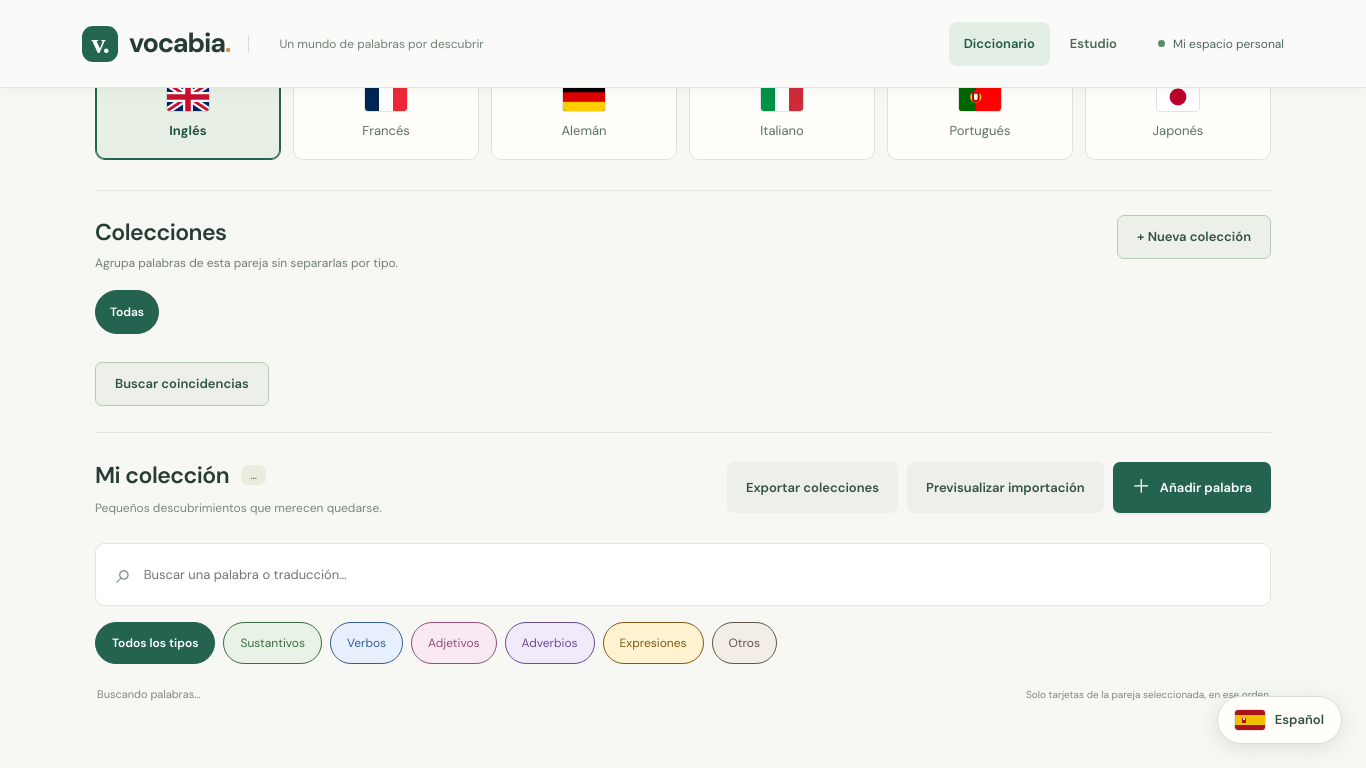
Colección de palabras › permite deshacer la última fusión y recuperar las dos tarjetas
The width and height of the screenshot is (1366, 768).
(page scrolled)
Click the button "Buscar coincidencias" at (182, 384), box [95,362,269,406]
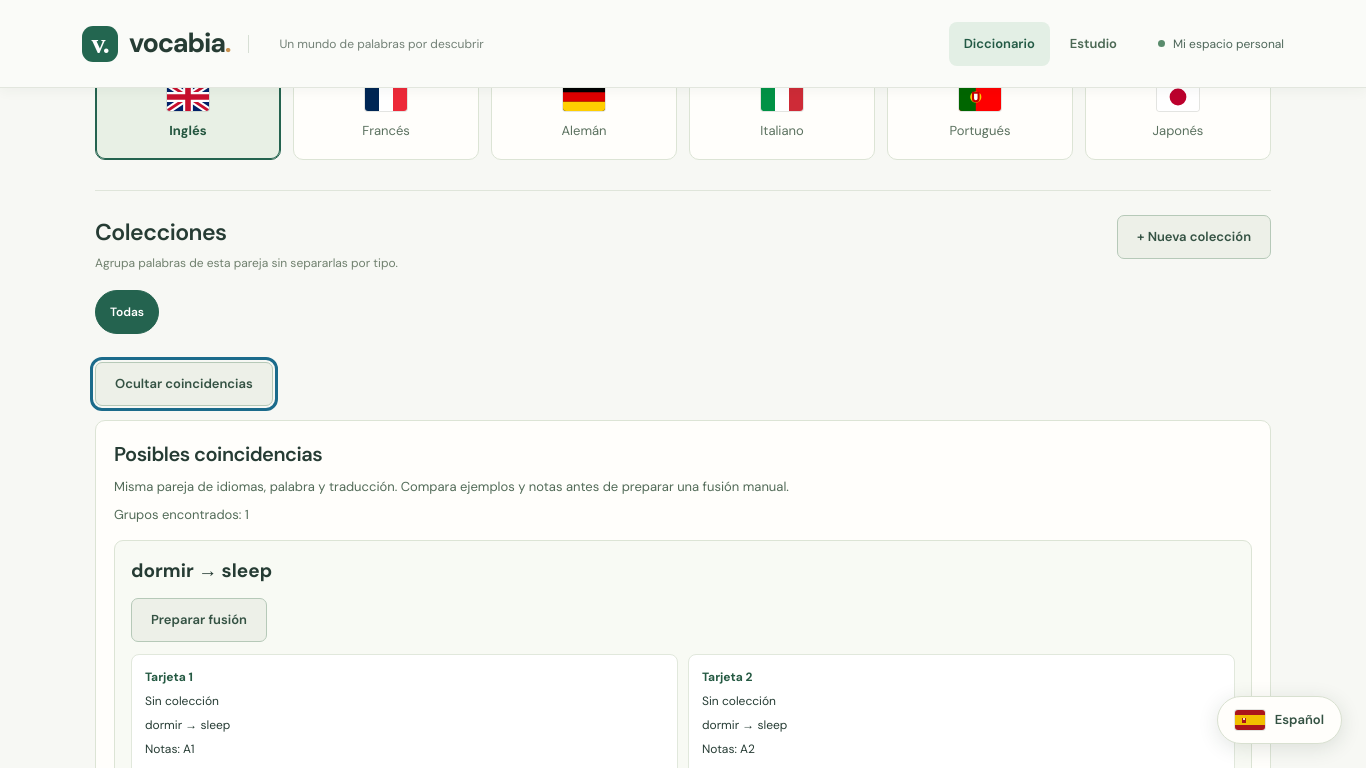
Click the button "Preparar fusión" at (199, 620), box [131,598,267,642]
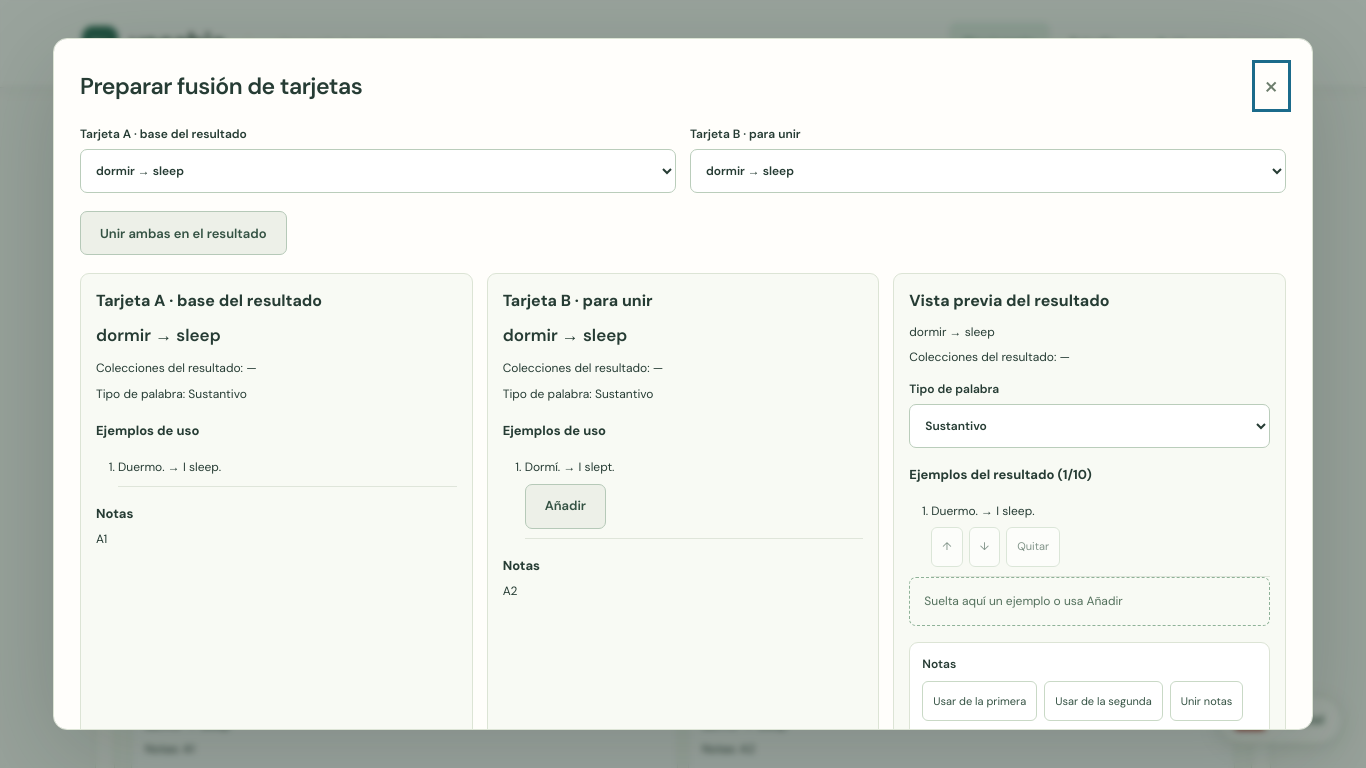
Click the button "Unir ambas en el resultado" at (183, 233), box [80,211,286,255]
(page scrolled)
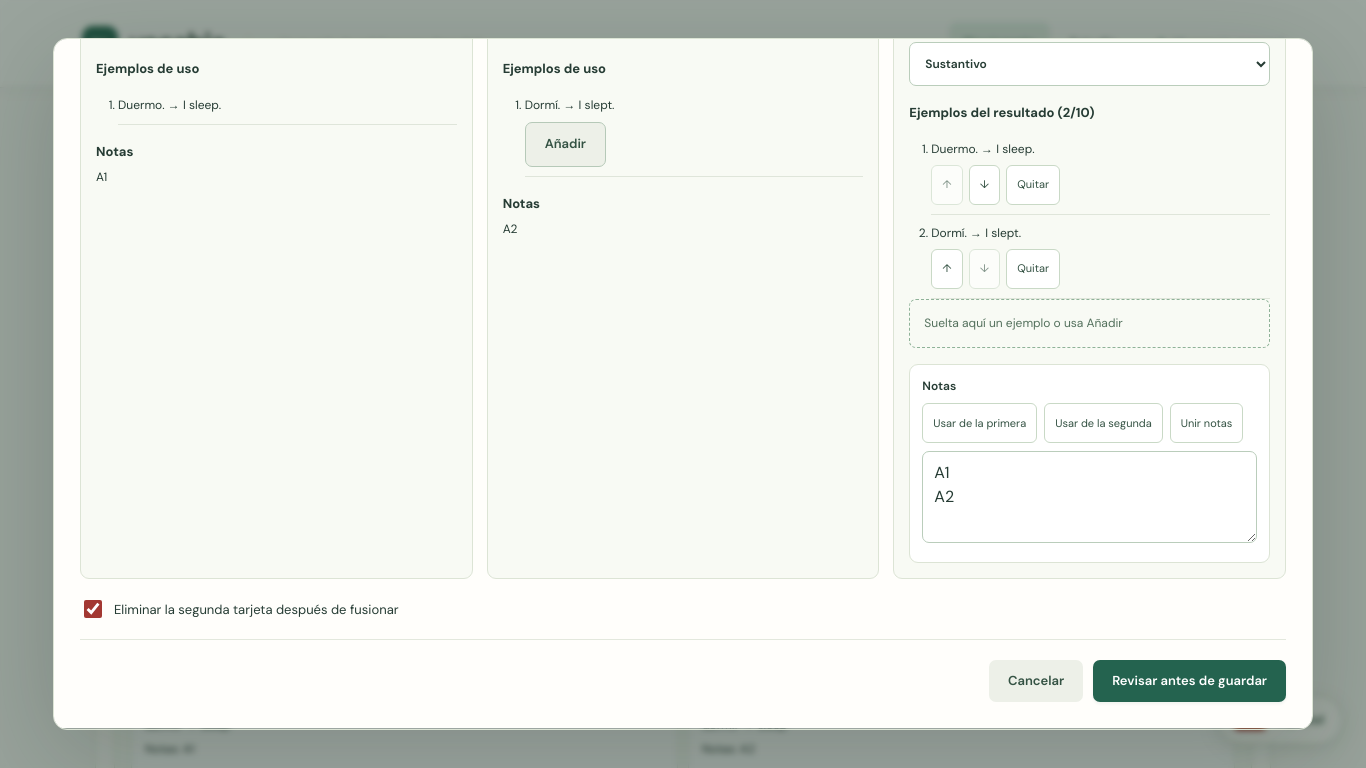
Click the button "Revisar antes de guardar" at (1190, 681), box [1093,660,1286,702]
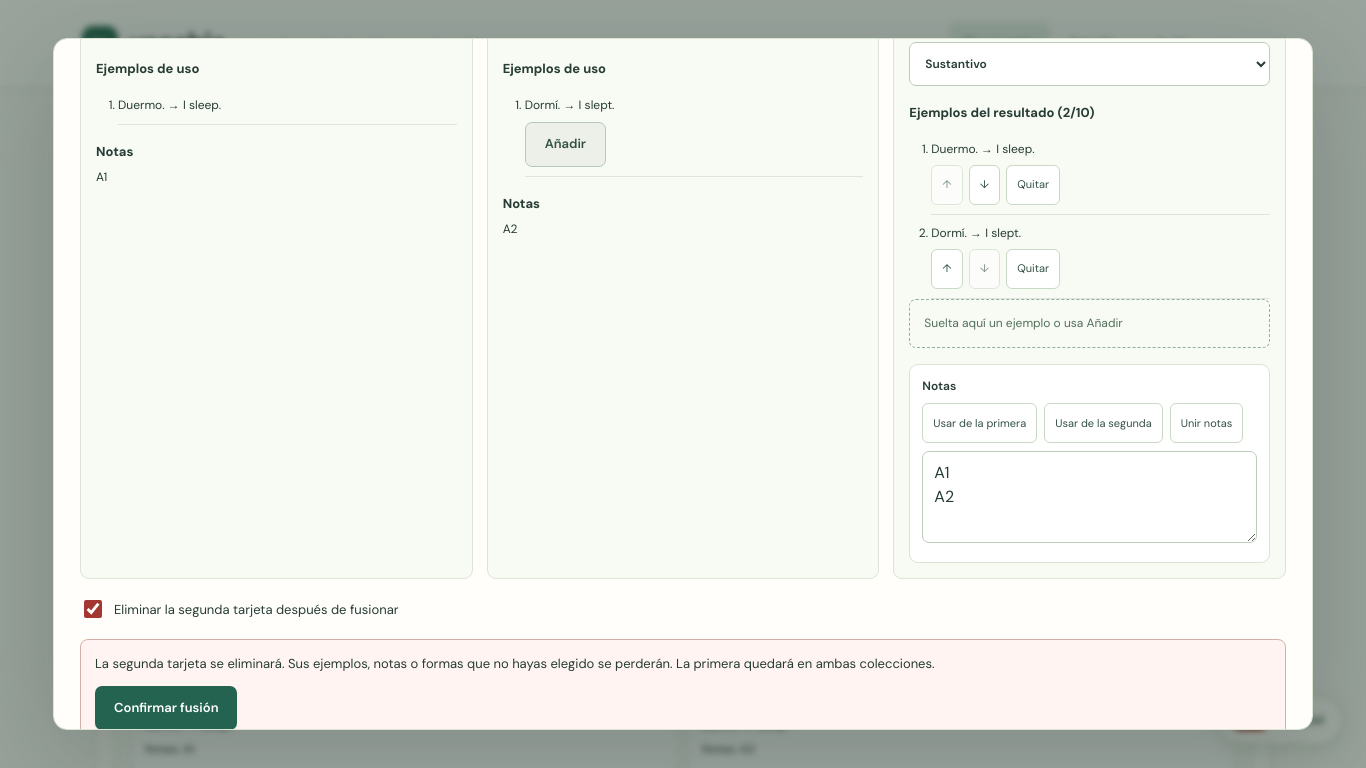
Click the button "Confirmar fusión" at (166, 708), box [95,686,238,730]
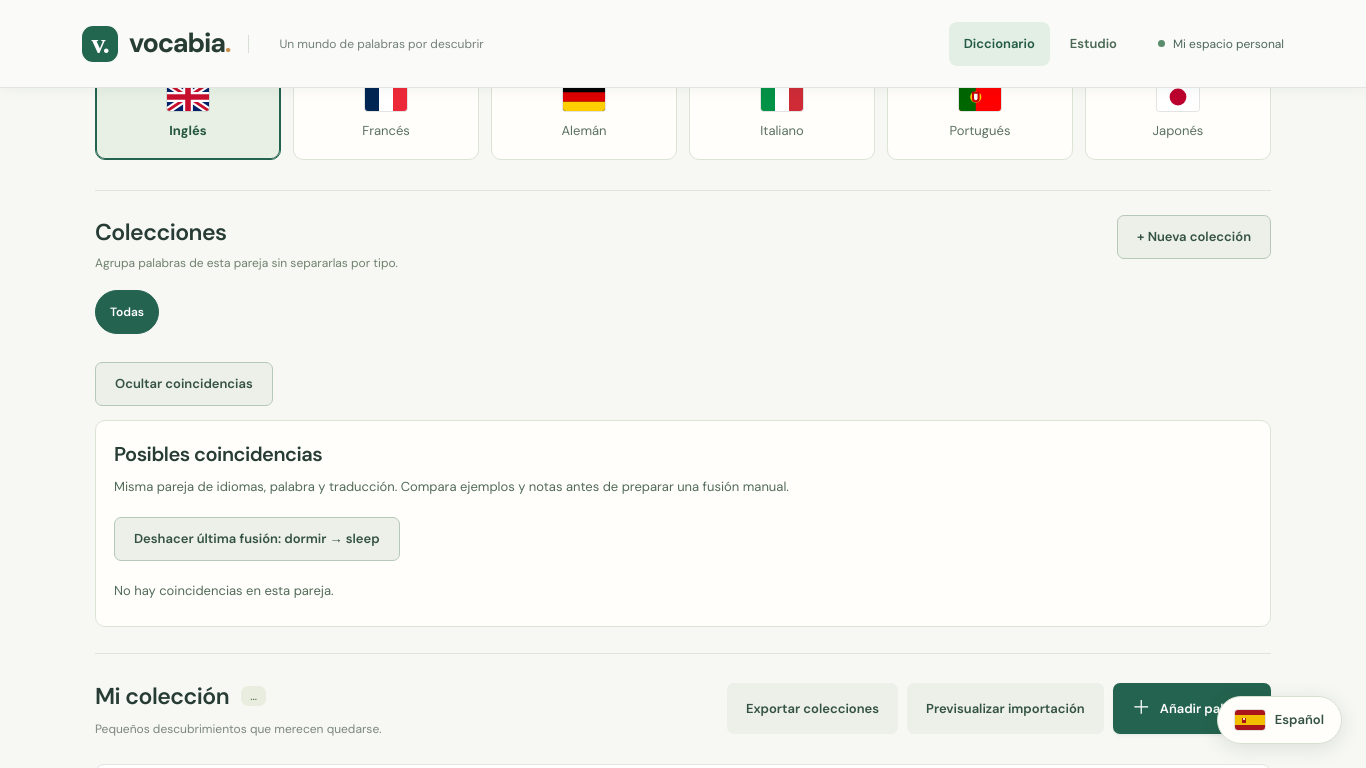
Click the button "Deshacer última fusión: dormir → sleep" at (257, 539), box [114,517,400,561]
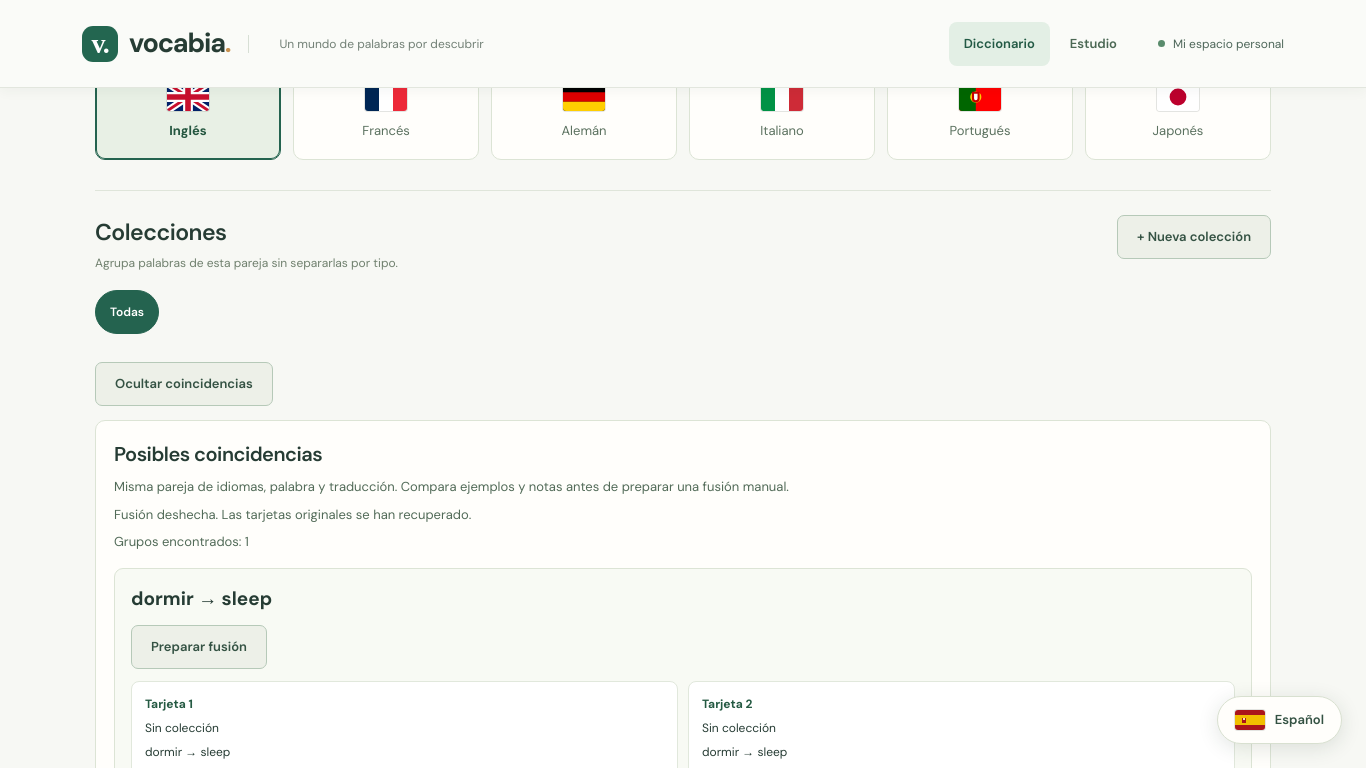
Check: the text "Fusión deshecha. Las tarjetas originales se han recuperado." is shown, box [114,506,471,523]
